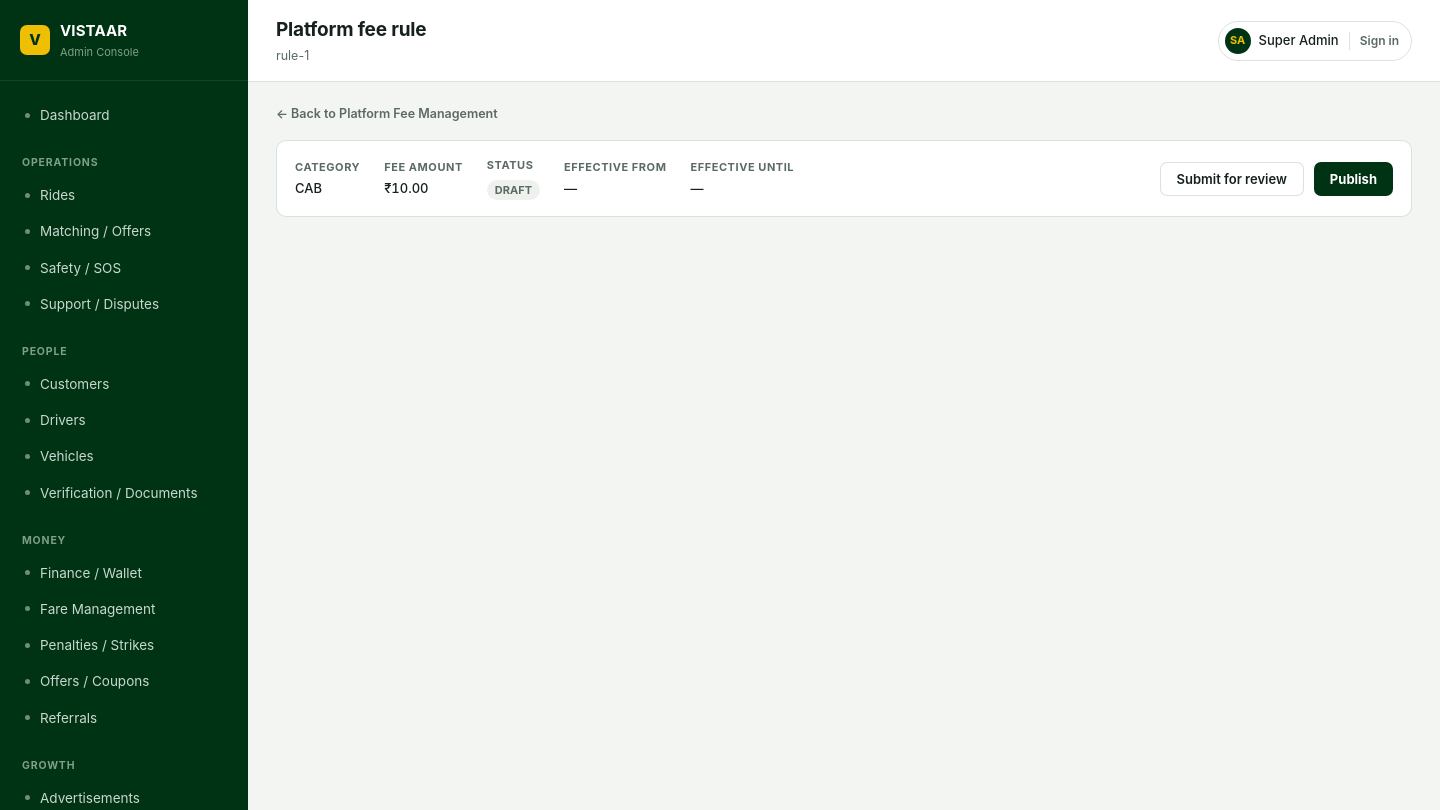
Test: PlatformFeeRuleDetailPage › publishes with no effective_from when left blank (effective now)
Click the button "Publish" at (1353, 178), box [1314,162,1393,196]
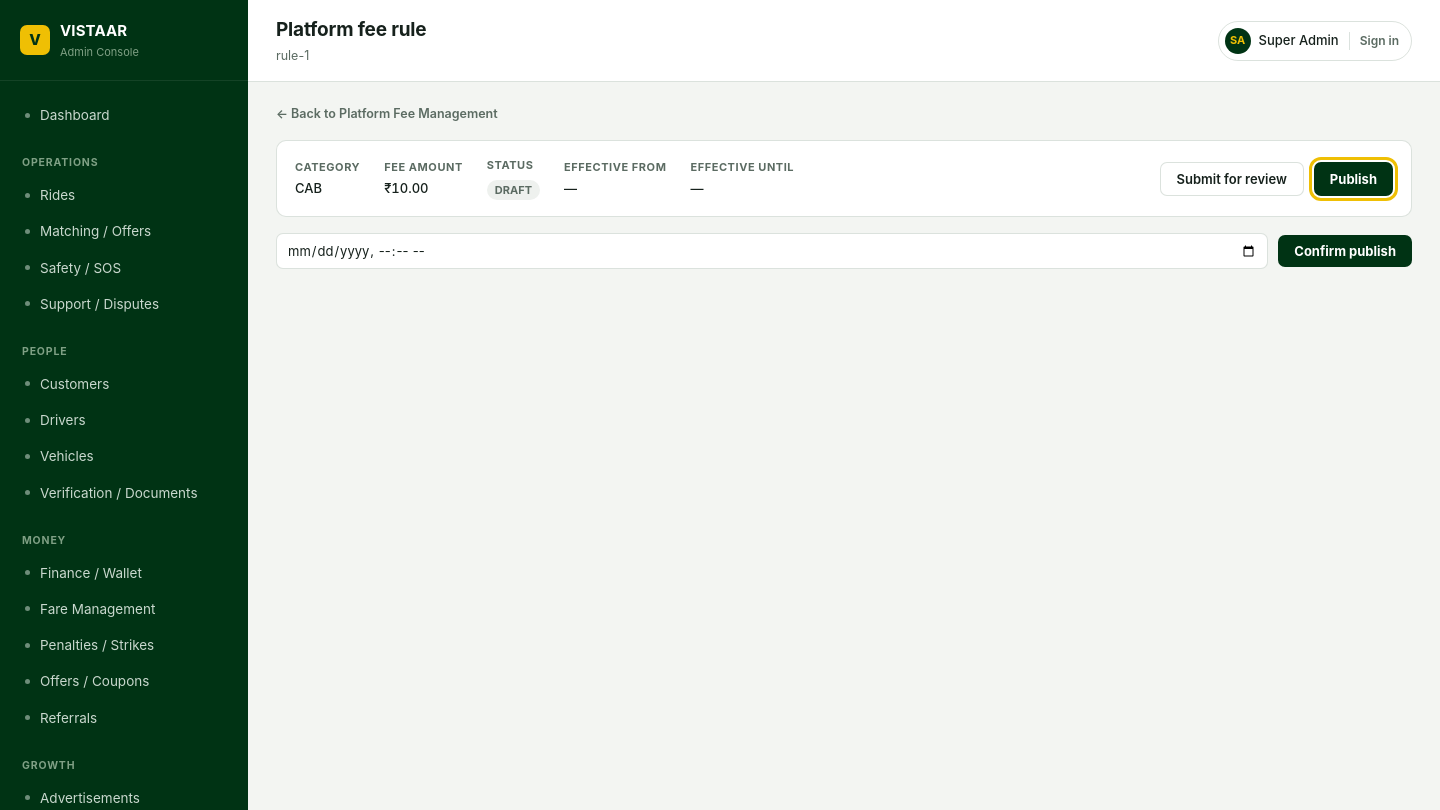
Click the button "Confirm publish" at (1345, 251), box [1278,235,1412,267]
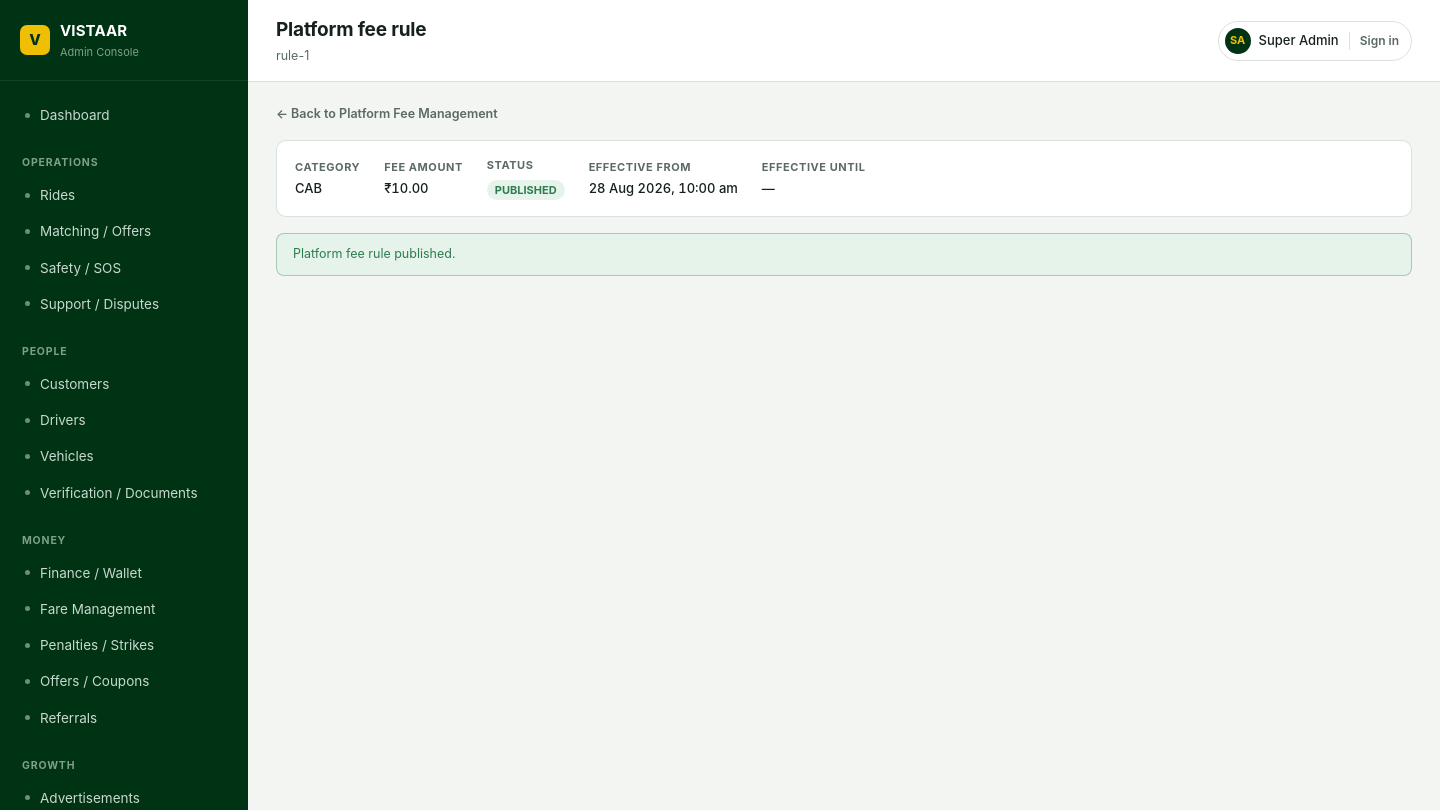
Expected: the text "Platform fee rule published." is shown, [276,233,1412,276]
